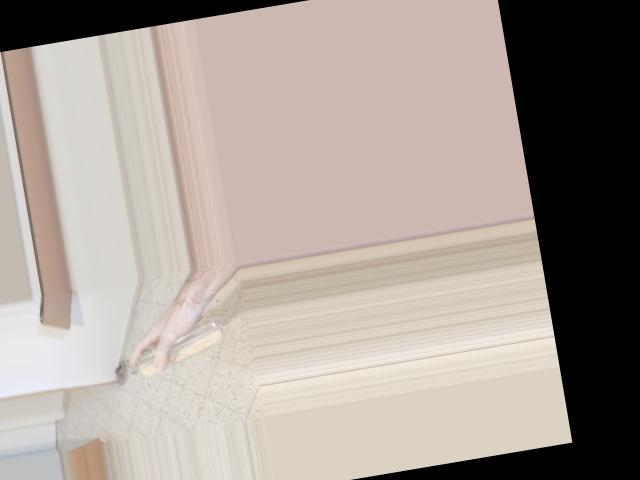cheese: (115, 296, 220, 391)
